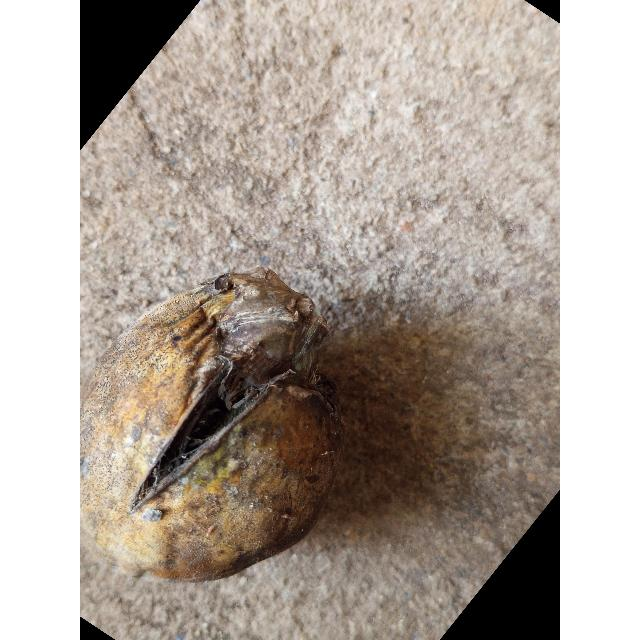damaged: (80, 271, 347, 583)
